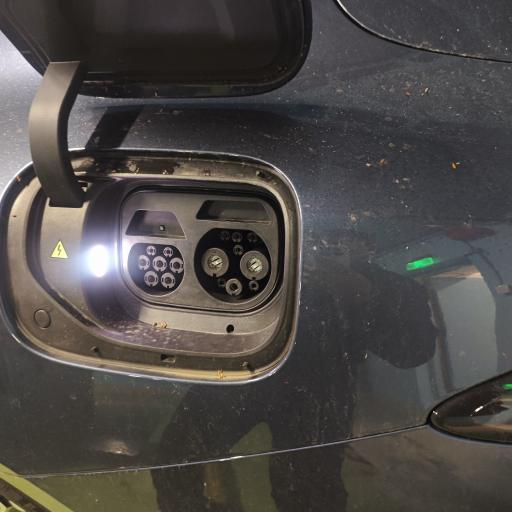AC_charging_hole: (124, 240, 187, 300)
DC_charging_port: (192, 224, 276, 308)
DC_hole: (199, 246, 232, 279), (239, 250, 271, 284)
PE: (223, 277, 244, 298)
